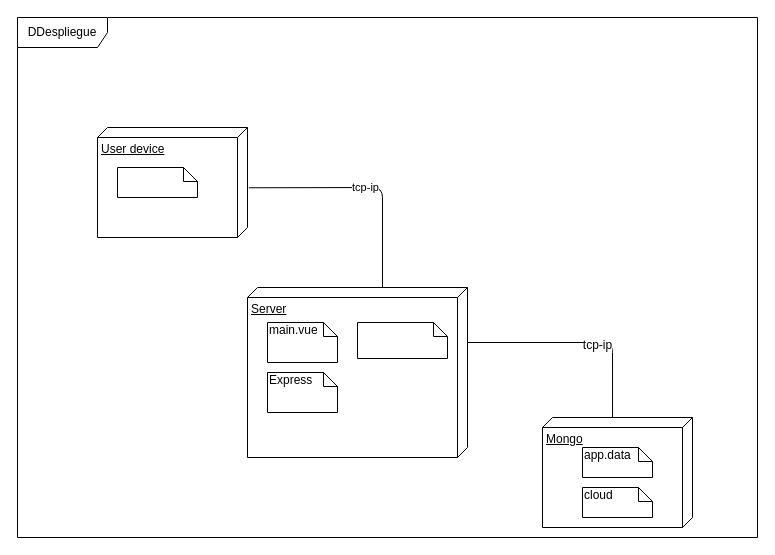
The diagram is 775 pixels wide and 555 high, and some of its shapes have lost their labels. Each missing label, with the centre of its shape:
"connection.js" belongs at (x=402, y=340).
"Navegador" belongs at (x=157, y=182).
